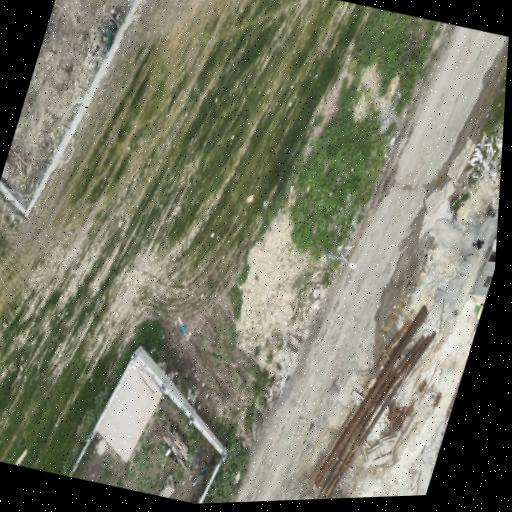person: (473, 239, 484, 249)
